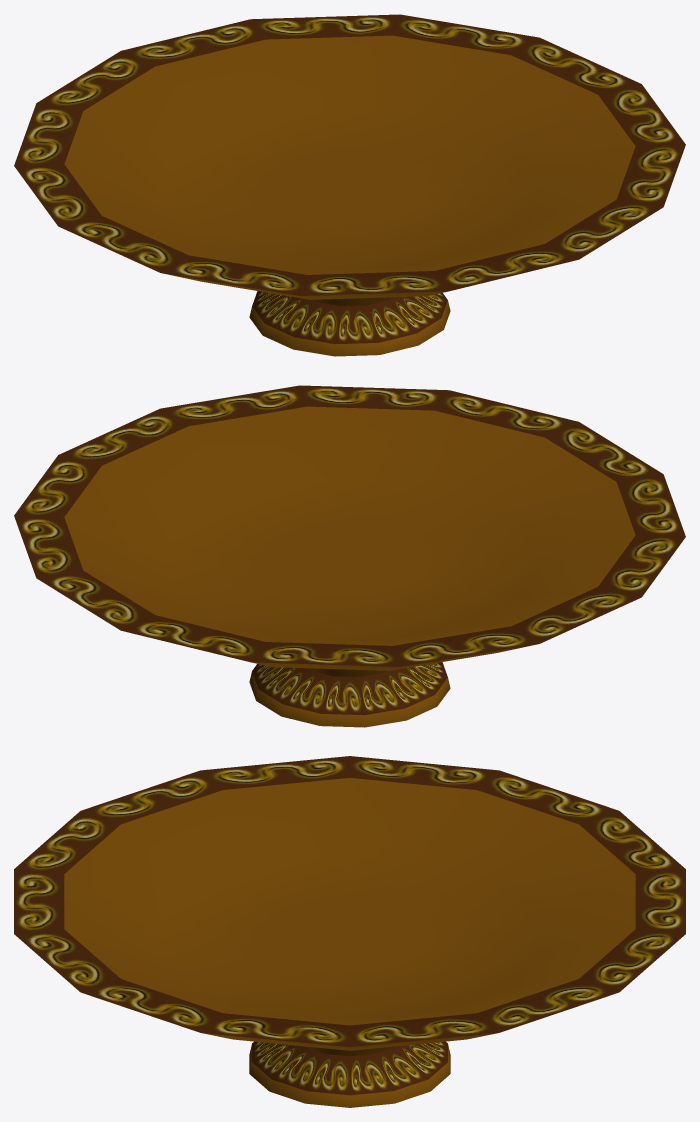
Rendered from INST_SM_TRAY.obj.
The picture shows the model from 3 angles, top to bottom: view 1: azimuth 30°, elevation 25°; view 2: azimuth 150°, elevation 25°; view 3: azimuth 270°, elevation 25°; orthographic projection. The views are drawn at different scales.
Visible parts, largest first — view 1: Cylinder01, Object03, Object04; view 2: Cylinder01, Object03, Object04; view 3: Cylinder01, Object03, Object04.
Boxes of the visible parts, x1,y1,x2,y2 form: Cylinder01: [64, 35, 635, 356]; Object03: [14, 14, 685, 295]; Object04: [252, 291, 447, 344]; Cylinder01: [64, 406, 635, 727]; Object03: [14, 385, 685, 666]; Object04: [252, 662, 447, 715]; Cylinder01: [64, 778, 635, 1107]; Object03: [14, 756, 685, 1047]; Object04: [252, 1041, 447, 1095].
Bounding box in the file's own units: 125 × 32.65 × 122.
